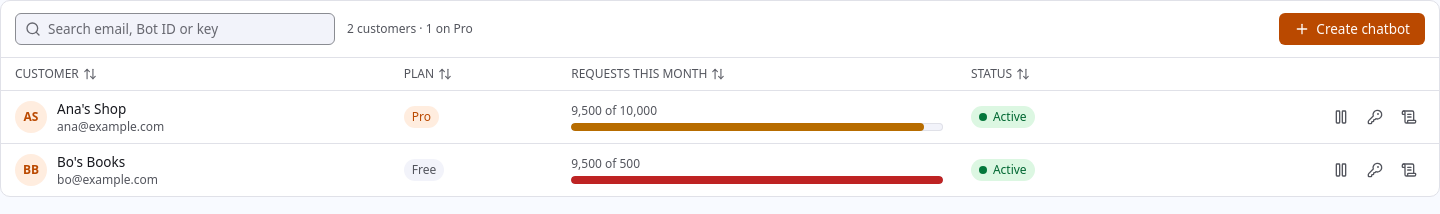
Test case: counts customers in plain English while searching
The width and height of the screenshot is (1440, 214).
Expected: the text "2 customers · 1 on Pro" is shown, [347,21,473,37]
Step 1. Type "bo@" into the search field named "Search customers" → coordinates (175, 29), box [15,13,335,45]
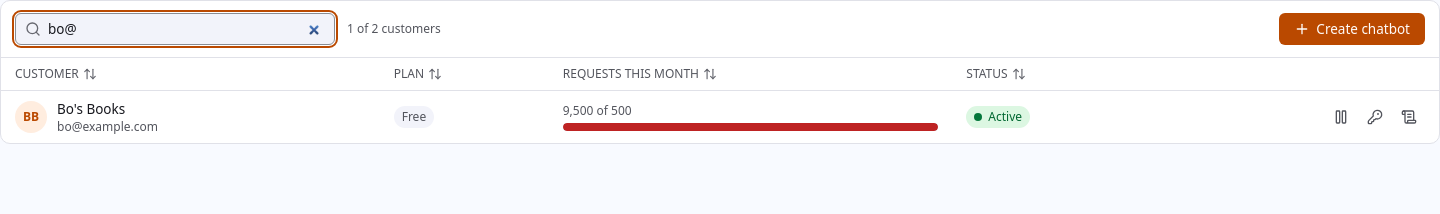
Expected: the text "1 of 2 customers" is shown, [347,21,441,37]
